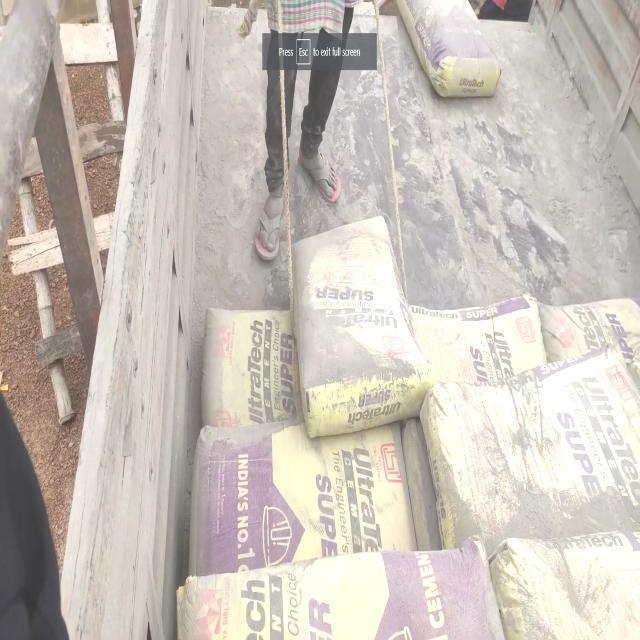gunny_bag: (421, 347, 640, 555), (190, 424, 416, 576), (177, 539, 503, 640), (293, 216, 436, 437), (490, 531, 640, 639), (411, 294, 546, 383), (201, 308, 299, 427), (398, 0, 501, 95), (539, 298, 640, 386)
